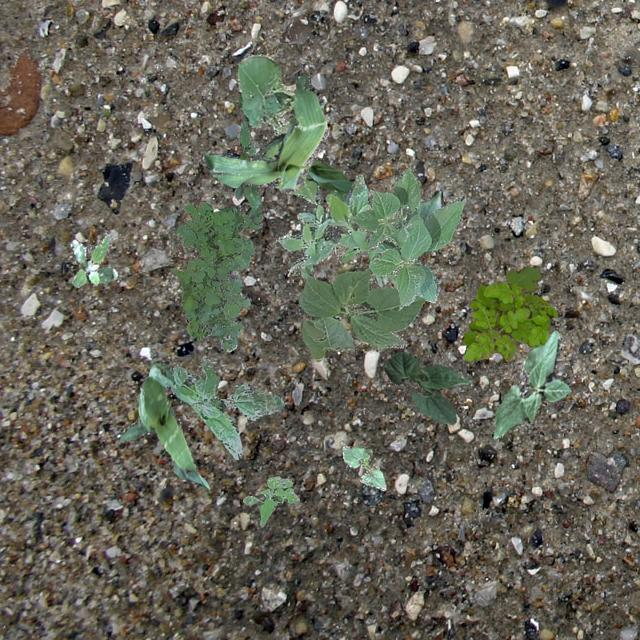crop: (346, 166, 464, 308), (200, 74, 328, 192), (236, 53, 320, 204), (298, 266, 424, 361), (118, 361, 208, 488), (492, 330, 570, 438), (366, 190, 442, 288), (384, 351, 469, 424), (238, 150, 354, 202), (234, 132, 284, 222), (342, 444, 384, 490)
weed: (170, 200, 262, 350), (170, 356, 282, 458), (276, 174, 369, 276), (464, 280, 556, 360), (460, 266, 540, 348), (242, 476, 298, 524), (70, 232, 116, 286), (236, 120, 256, 154)
